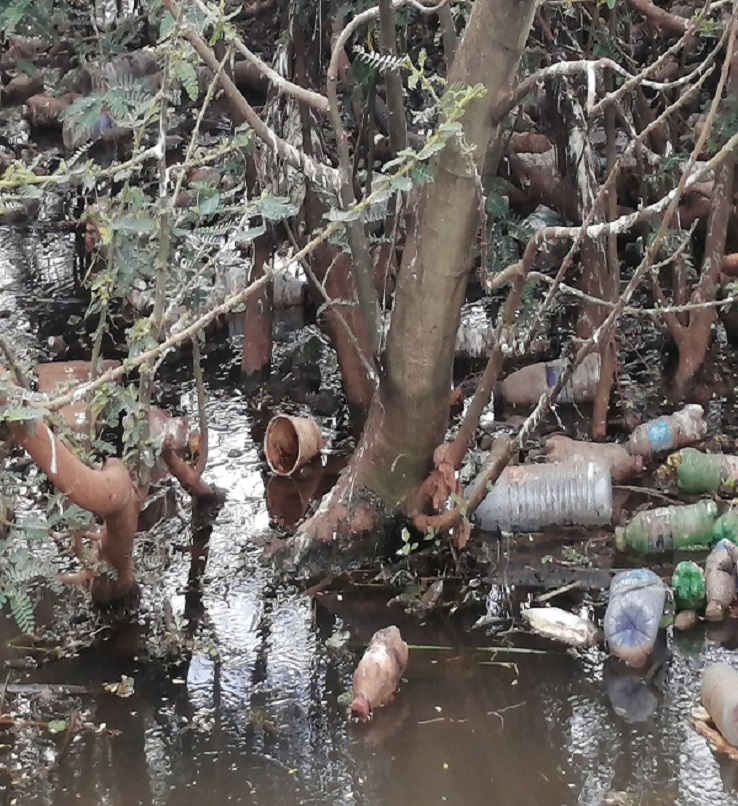bottle: (331, 621, 418, 710), (503, 461, 612, 529), (615, 498, 723, 555), (499, 355, 604, 410), (682, 657, 737, 753), (612, 557, 658, 669), (542, 435, 645, 474), (630, 402, 711, 446), (675, 450, 737, 492)
cup: (254, 405, 325, 476)
